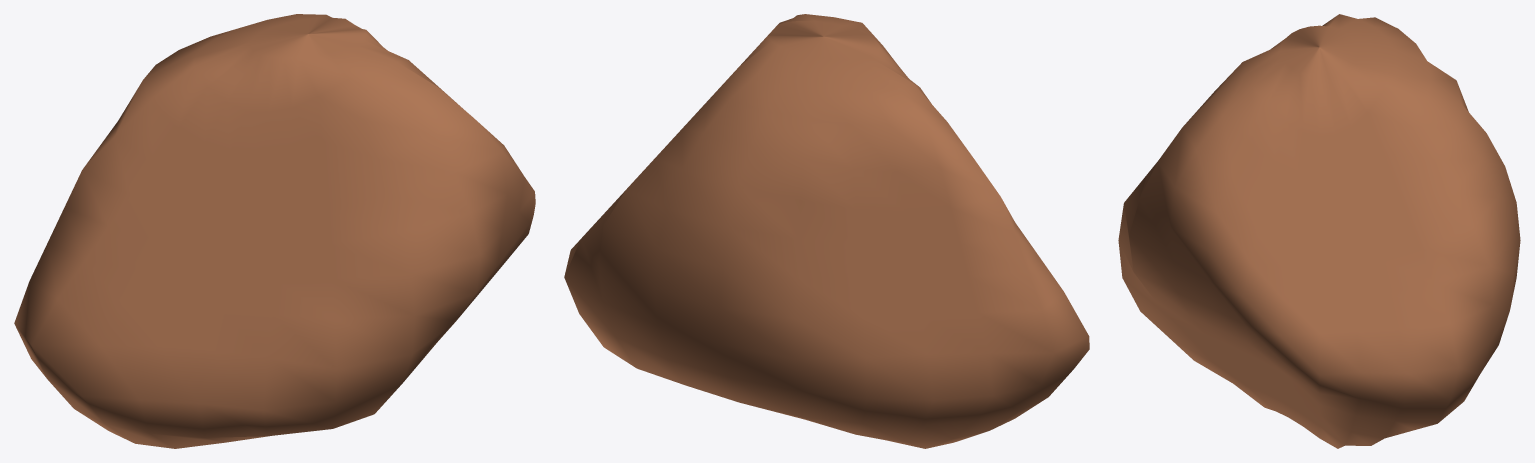
Rendered from boulder1.glb.
The picture shows the model from 3 angles, left to right: view 1: azimuth 30°, elevation 25°; view 2: azimuth 150°, elevation 25°; view 3: azimuth 270°, elevation 25°; orthographic projection. The views are drawn at different scales.
Parts seen in each view (by area): view 1: Boulder; view 2: Boulder; view 3: Boulder.
Boxes of the visible parts, box(x1,y1,x2,y2) form: Boulder: box(14, 14, 535, 448); Boulder: box(564, 14, 1089, 448); Boulder: box(1118, 14, 1520, 448).
Size of the model in its own units: 2.32 by 1.69 by 1.7.
